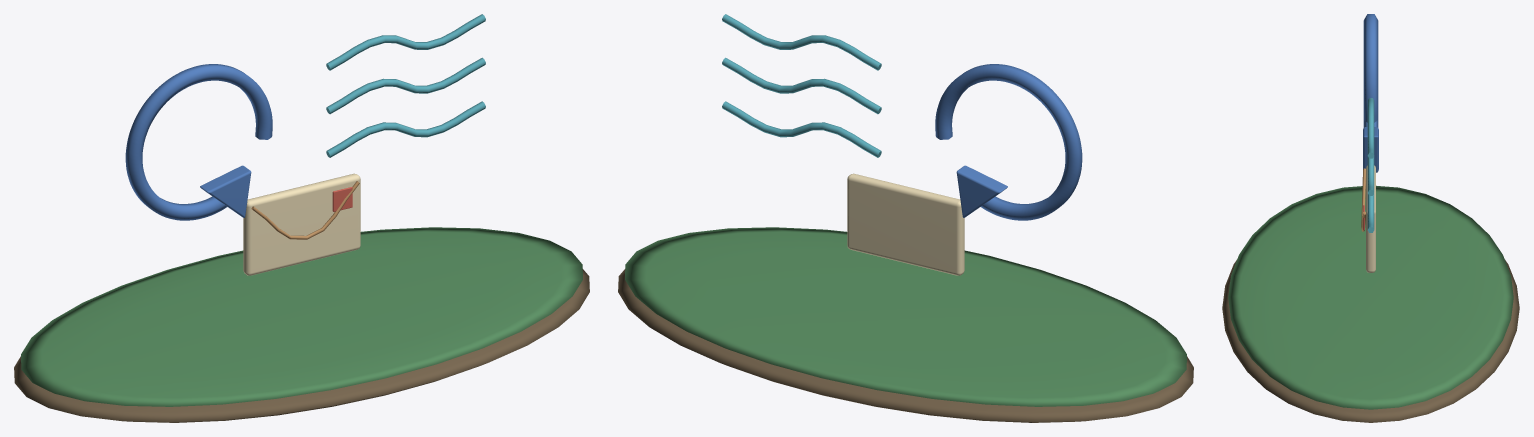
Rendered from complete-second-vanishing-breath-message.glb.
3 renders of one model, left to right at view 1: azimuth 30°, elevation 25°; view 2: azimuth 150°, elevation 25°; view 3: azimuth 270°, elevation 25°, orthographic. The views are drawn at different scales.
Parts seen in each view (by area): view 1: complete-second-vanishing-breath-message_surface_01, complete-second-vanishing-breath-message_surface_00, complete-second-vanishing-breath-message_surface_04, complete-second-vanishing-breath-message_surface_02, complete-second-vanishing-breath-message_surface_03, complete-second-vanishing-breath-message_surface_05; view 2: complete-second-vanishing-breath-message_surface_01, complete-second-vanishing-breath-message_surface_00, complete-second-vanishing-breath-message_surface_04, complete-second-vanishing-breath-message_surface_02, complete-second-vanishing-breath-message_surface_03; view 3: complete-second-vanishing-breath-message_surface_01, complete-second-vanishing-breath-message_surface_00, complete-second-vanishing-breath-message_surface_02, complete-second-vanishing-breath-message_surface_03, complete-second-vanishing-breath-message_surface_04.
Part boxes in pixels (x1,y1,x2,y2): complete-second-vanishing-breath-message_surface_01: (21,227,582,406); complete-second-vanishing-breath-message_surface_00: (14,269,589,422); complete-second-vanishing-breath-message_surface_04: (243,173,360,275); complete-second-vanishing-breath-message_surface_02: (125,64,272,220); complete-second-vanishing-breath-message_surface_03: (326,14,485,157); complete-second-vanishing-breath-message_surface_05: (251,181,359,239); complete-second-vanishing-breath-message_surface_01: (625,227,1186,406); complete-second-vanishing-breath-message_surface_00: (618,269,1193,422); complete-second-vanishing-breath-message_surface_04: (847,173,964,275); complete-second-vanishing-breath-message_surface_02: (935,64,1082,220); complete-second-vanishing-breath-message_surface_03: (722,14,881,157); complete-second-vanishing-breath-message_surface_01: (1228,185,1513,409); complete-second-vanishing-breath-message_surface_00: (1222,260,1519,422); complete-second-vanishing-breath-message_surface_02: (1363,14,1378,172); complete-second-vanishing-breath-message_surface_03: (1367,98,1374,232); complete-second-vanishing-breath-message_surface_04: (1366,165,1375,272).
Bounding box in the file's own units: 4.56 × 2.4 × 2.5.
